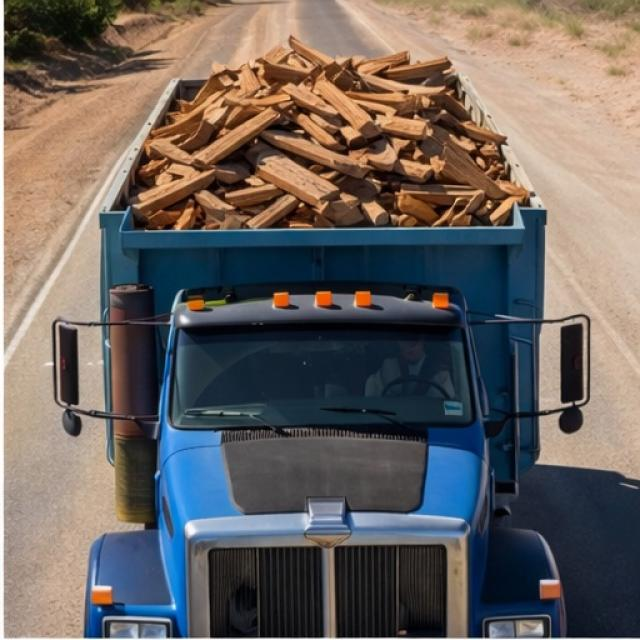trailer: (100, 38, 550, 254)
truck: (54, 26, 600, 640)
